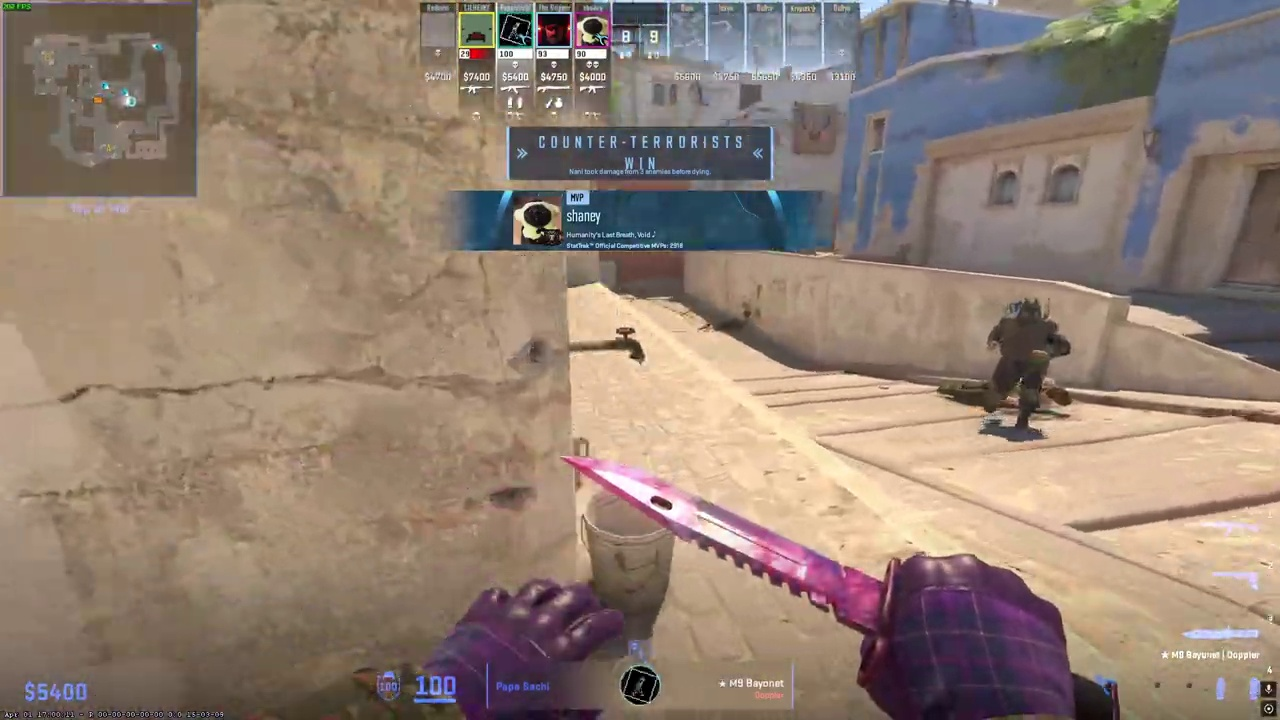CT: (986, 298, 1069, 433)
